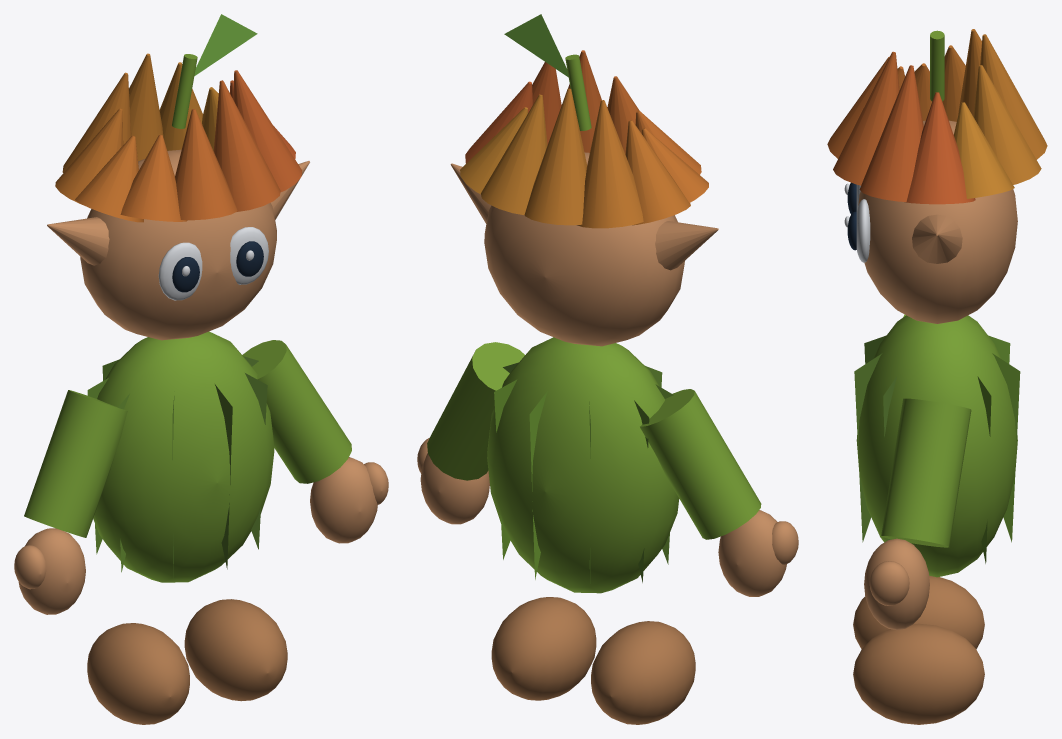
Rendered from sprite.glb.
3 views of the same model, side by side, from view 1: azimuth 30°, elevation 25°; view 2: azimuth 150°, elevation 25°; view 3: azimuth 270°, elevation 25° (orthographic). The views are drawn at different scales.
Parts seen in each view (by area): view 1: Body, Head, HandR, HandL; view 2: Body, Head, HandL, HandR; view 3: Body, Head, HandR.
Part boxes in pixels (x1,y1,x2,y2): Body: [24, 331, 351, 724]; Head: [47, 14, 309, 340]; HandR: [310, 457, 388, 543]; HandL: [14, 528, 85, 614]; Body: [427, 337, 761, 724]; Head: [450, 14, 718, 346]; HandL: [718, 510, 798, 596]; HandR: [417, 438, 489, 524]; Body: [853, 314, 1020, 724]; Head: [827, 29, 1047, 323]; HandR: [864, 538, 929, 630].
Size of the model in its own units: 1.21 by 2.12 by 0.6012.
